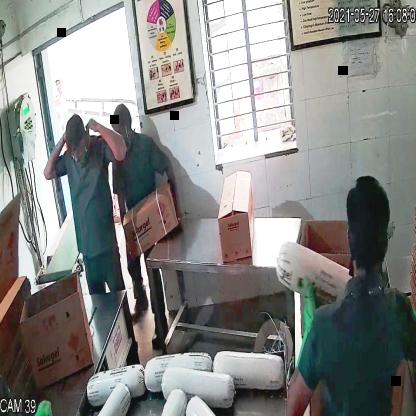no_goggles: (66, 142, 90, 162)
